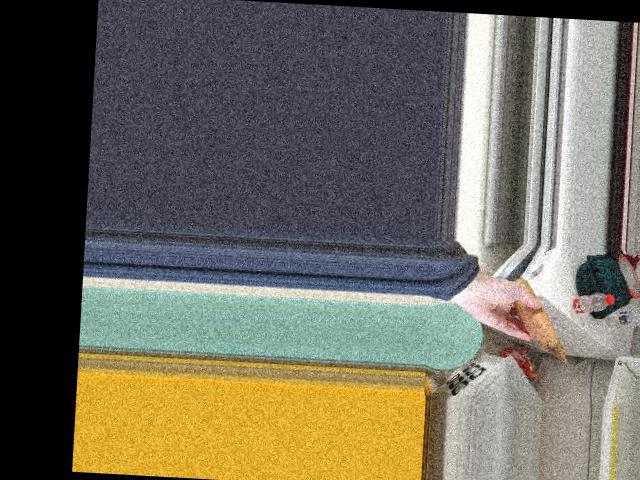sweet_potato: (503, 280, 551, 334)
